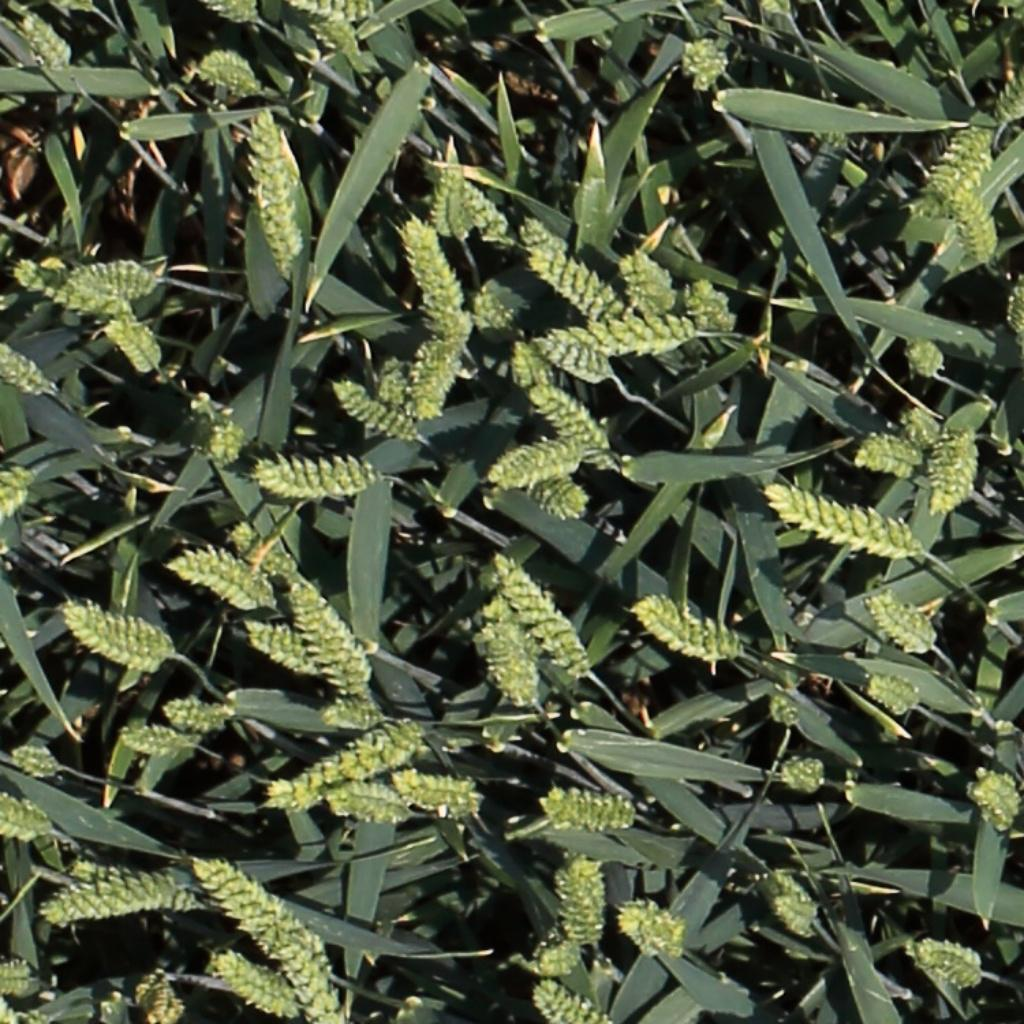0-0: (492, 548, 592, 678), (191, 860, 323, 957), (265, 714, 434, 780), (771, 487, 921, 557), (289, 578, 374, 701), (63, 595, 191, 676), (47, 857, 205, 921), (524, 250, 646, 327), (256, 916, 342, 1022), (628, 589, 749, 663), (477, 439, 590, 517), (253, 105, 299, 278), (410, 310, 479, 417), (15, 260, 131, 320), (162, 544, 273, 606), (573, 310, 699, 363), (405, 217, 462, 334), (254, 453, 387, 503), (483, 598, 543, 708), (529, 383, 613, 457), (531, 322, 618, 391), (333, 379, 426, 443), (69, 251, 184, 301), (215, 957, 296, 1017), (932, 118, 993, 197), (674, 262, 741, 333), (927, 421, 977, 516), (450, 170, 514, 244), (535, 780, 633, 827), (519, 901, 577, 978), (950, 180, 999, 266), (869, 592, 937, 653), (17, 5, 73, 77), (326, 769, 404, 820), (232, 525, 300, 581), (566, 856, 604, 950), (622, 244, 673, 314), (243, 623, 316, 670), (618, 905, 681, 959), (103, 316, 159, 376), (535, 981, 608, 1024), (969, 775, 1019, 836), (162, 688, 236, 729), (519, 217, 579, 267), (855, 438, 923, 482), (269, 770, 341, 810), (438, 140, 466, 241), (682, 35, 729, 95), (3, 458, 44, 526), (472, 281, 521, 337), (914, 944, 984, 983), (393, 776, 476, 808), (883, 408, 945, 448), (196, 60, 262, 95), (0, 793, 49, 839), (0, 344, 47, 391), (378, 352, 409, 419), (512, 334, 543, 397), (997, 271, 1024, 342), (323, 22, 374, 59), (993, 61, 1022, 125), (774, 897, 820, 937), (768, 685, 805, 734), (868, 678, 921, 712), (909, 333, 946, 380), (118, 731, 197, 752), (146, 969, 177, 1018), (322, 708, 385, 729), (10, 749, 60, 775), (296, 0, 372, 17), (211, 0, 259, 23), (782, 764, 827, 787), (0, 965, 32, 983), (0, 974, 12, 1021)
